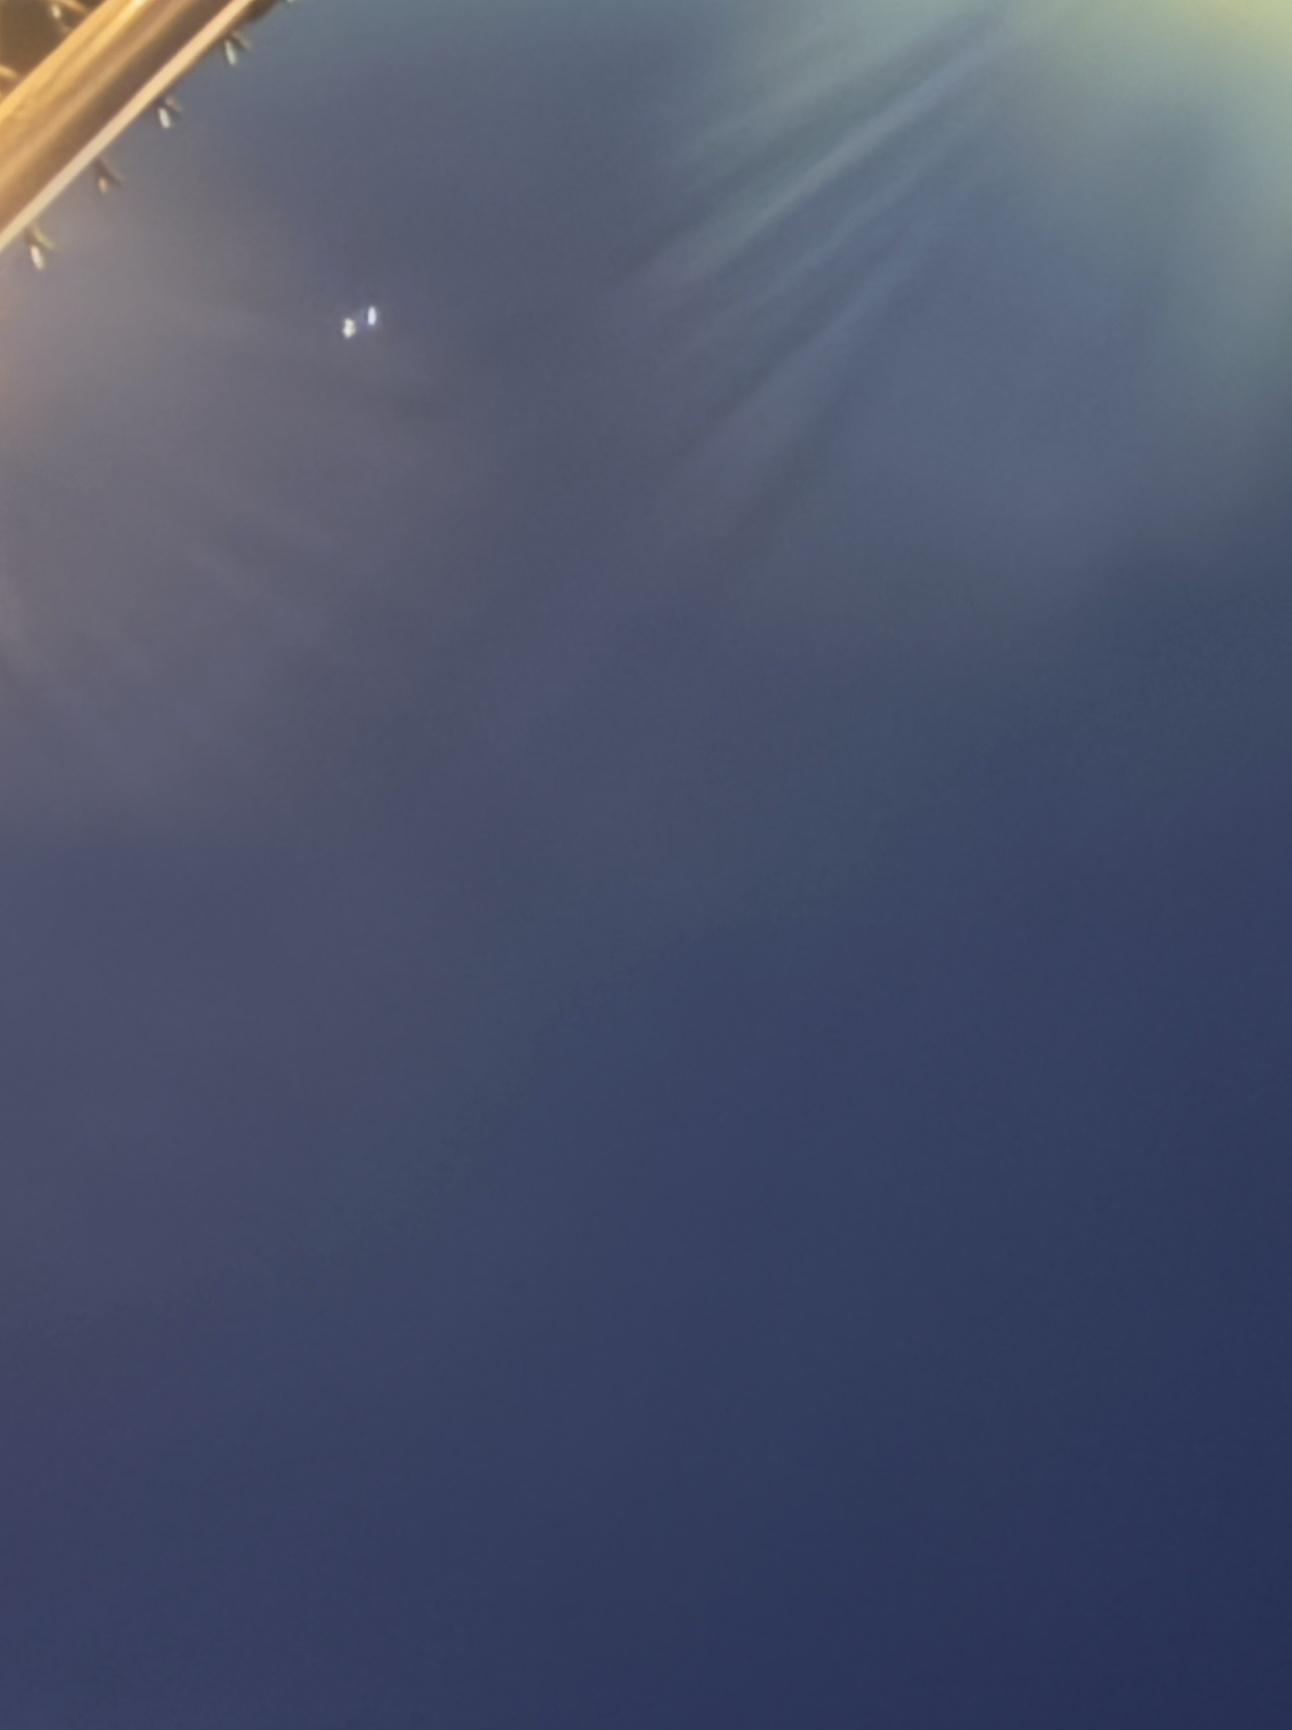Plane: (305, 275, 425, 365)
